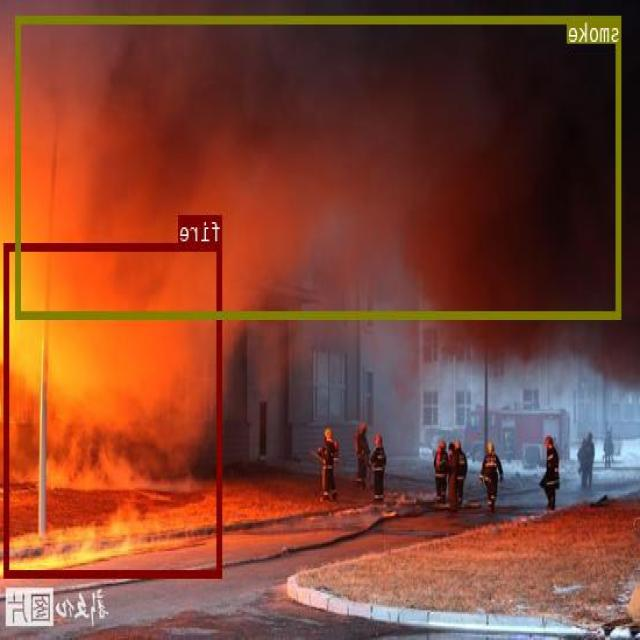fire: (5, 242, 223, 576)
smoke: (16, 15, 622, 318)
